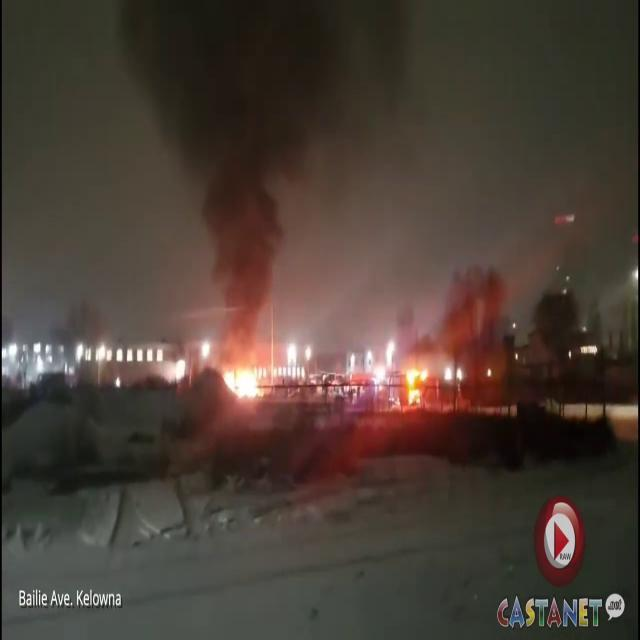Fire: (218, 349, 274, 406)
Smoke: (110, 0, 448, 340)
